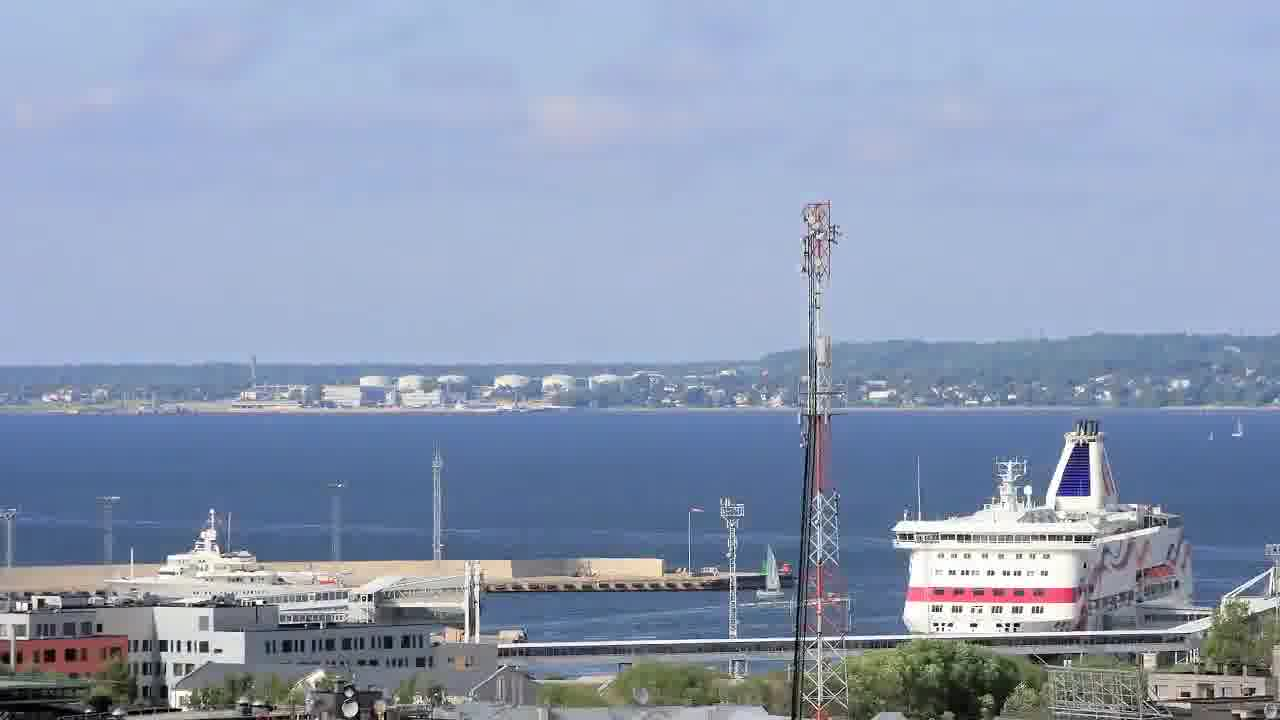type-2: (733, 544, 802, 616), (1216, 393, 1257, 446)
type-3: (868, 415, 1225, 638), (84, 511, 353, 609)
